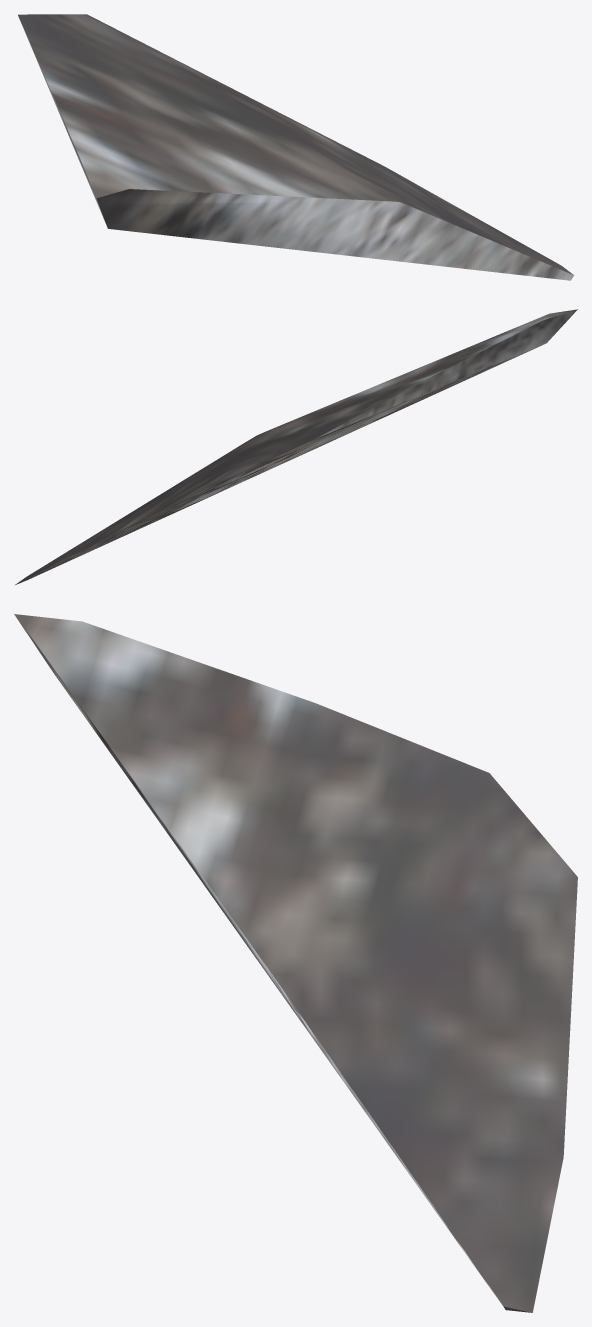
The model's file is Asteroid_Large_001_02_010_03_014.fbx.
3 views of the same model, one above another, from view 1: azimuth 30°, elevation 25°; view 2: azimuth 150°, elevation 25°; view 3: azimuth 270°, elevation 25° (orthographic). The views are drawn at different scales.
Visible parts, largest first — view 1: Asteroid_Large_001_02_010_03_014; view 2: Asteroid_Large_001_02_010_03_014; view 3: Asteroid_Large_001_02_010_03_014.
Part boxes in pixels (box(x1,y1,x2,y2)): Asteroid_Large_001_02_010_03_014: box(18, 14, 574, 280); Asteroid_Large_001_02_010_03_014: box(15, 309, 577, 584); Asteroid_Large_001_02_010_03_014: box(14, 614, 577, 1312).
Bounding box in the file's own units: 4.15 × 2.53 × 3.25.
